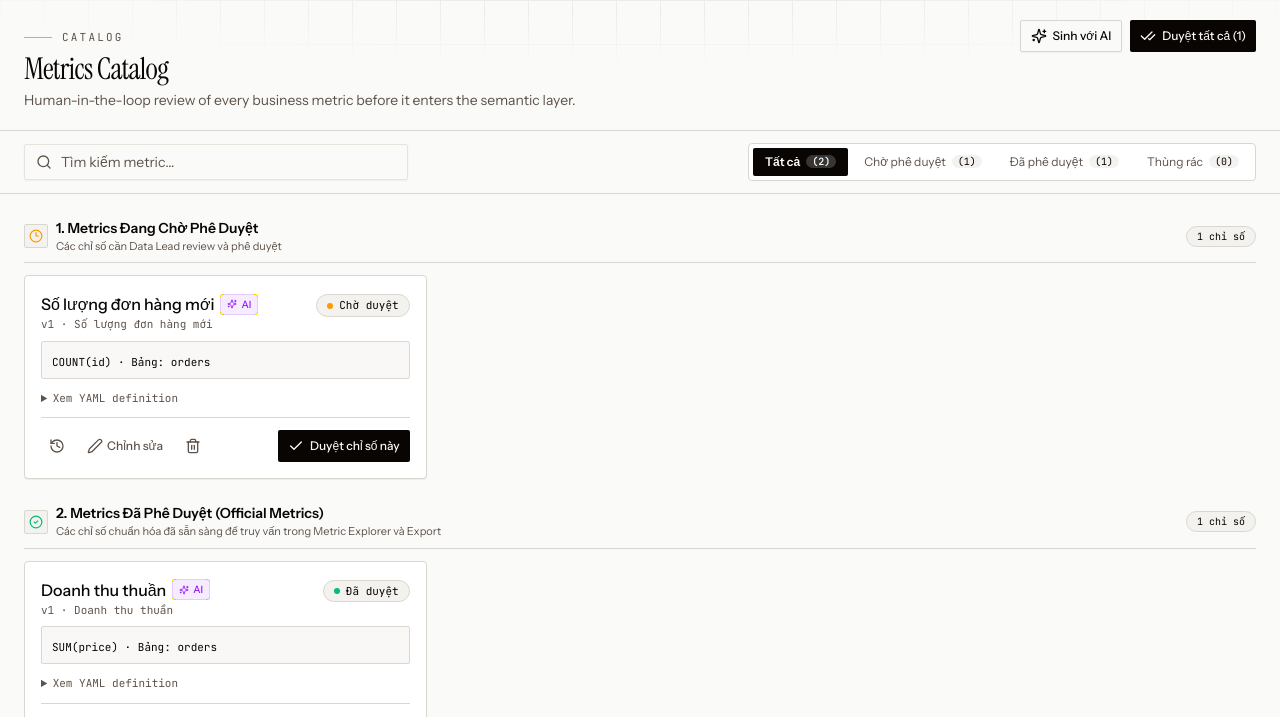
Test case: MetricsCatalogView › filters metrics when filter tab is clicked
The image size is (1280, 717).
Click on "Chờ phê duyệt" tab
Click the button "Chờ phê duyệt (1)": x=923, y=162 [852,148,994,176]
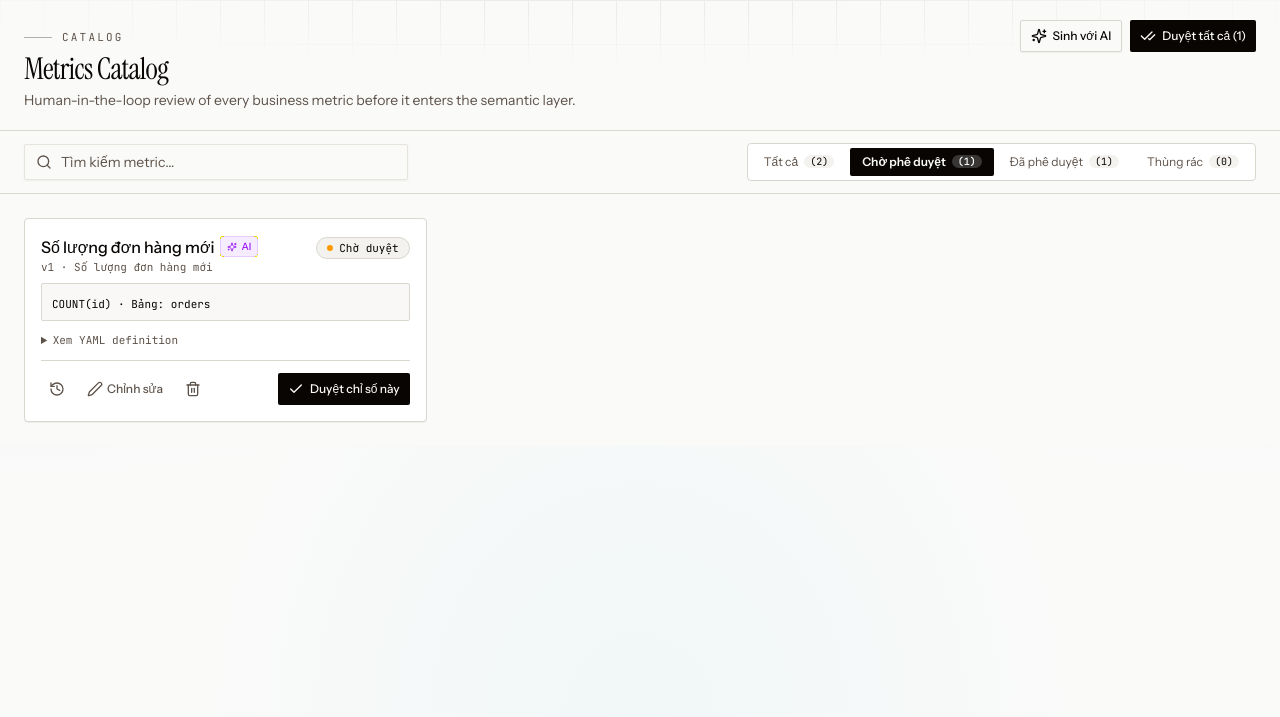
Check: the heading "Số lượng đơn hàng mới" is shown, box [41,235,214,259]
Check: the heading "Doanh thu thuần" is gone
